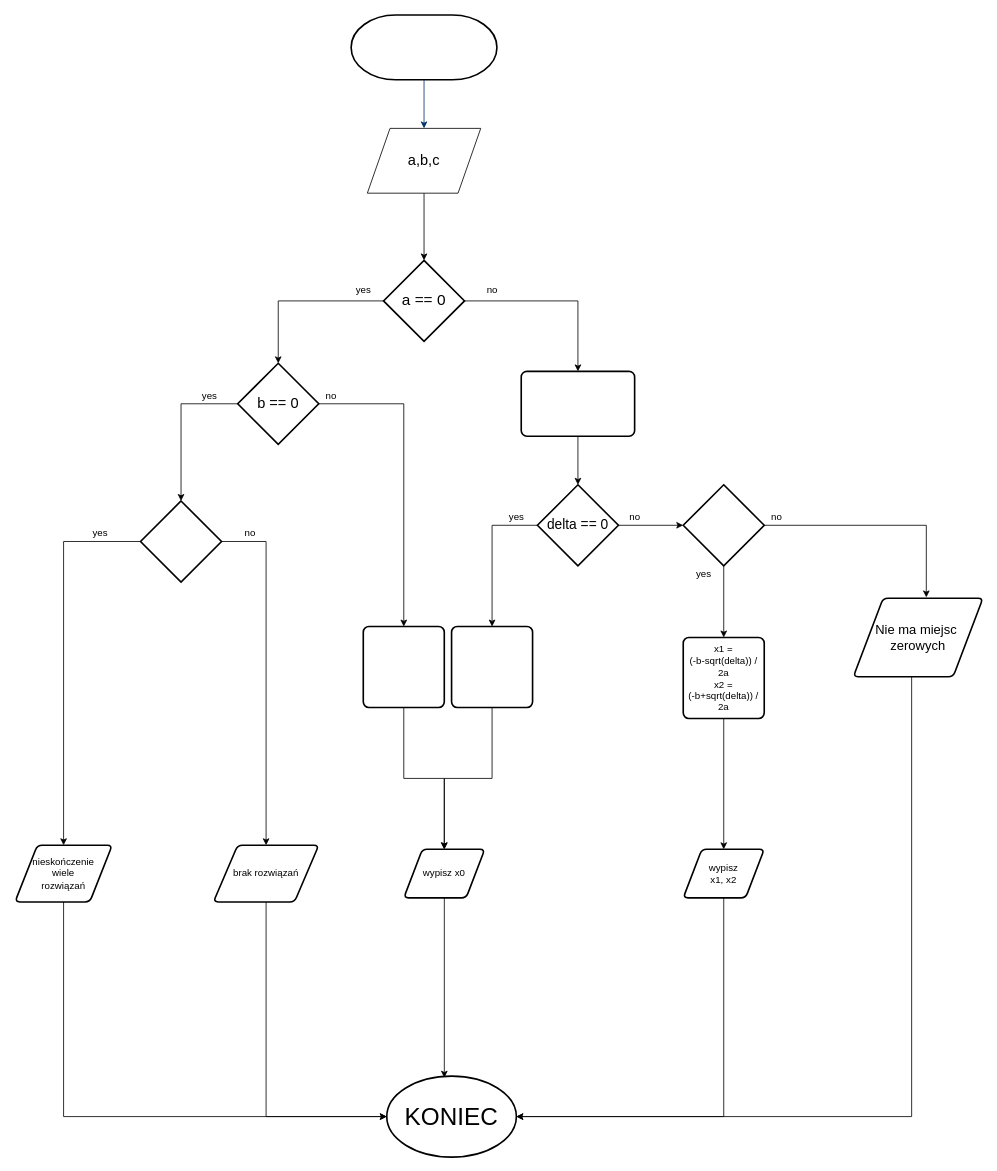
Image size: 997x1171. Some labels were removed from this diagram. The box of each missing label's shape, as (x1, y1, x2, y2) in pixels:
c == 0: (139, 500, 222, 582)
delta = b^2 - 4*a*c: (520, 370, 635, 437)
delta > 0: (682, 484, 765, 566)
START: (350, 14, 497, 80)
x0 = -b / 2a: (450, 625, 533, 708)
x0 = -c / b: (362, 625, 445, 708)
